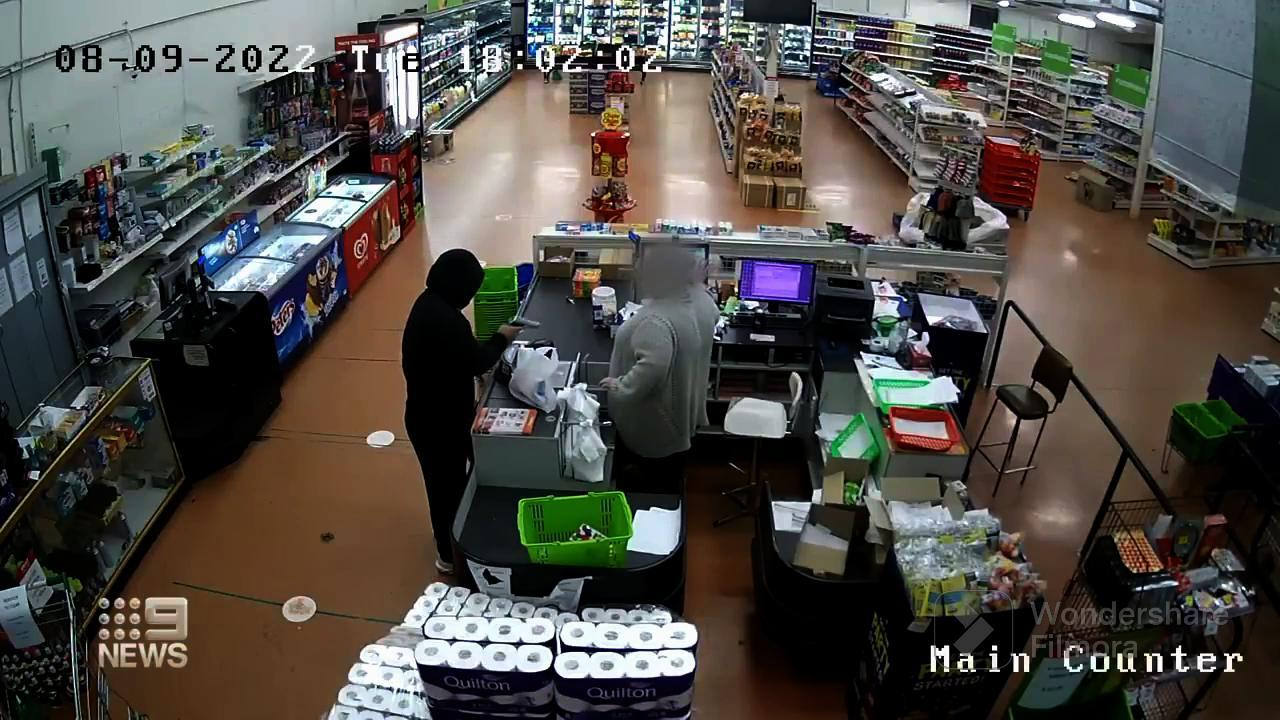gun: (502, 306, 552, 342)
